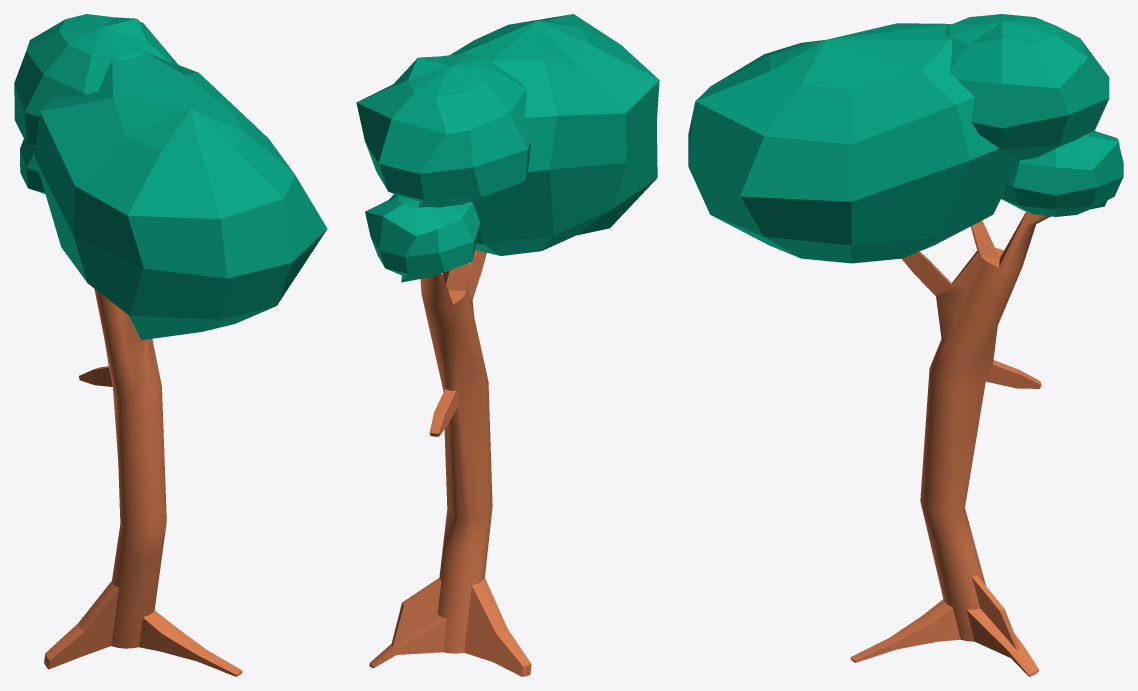
Rendered from Ieproj_tree2.fbx.
3 renders of one model, left to right at view 1: azimuth 30°, elevation 25°; view 2: azimuth 150°, elevation 25°; view 3: azimuth 270°, elevation 25°, orthographic. The views are drawn at different scales.
Parts seen in each view (by area): view 1: pSphere4, pCylinder1; view 2: pSphere4, pCylinder1; view 3: pSphere4, pCylinder1.
Boxes of the visible parts, box(x1,y1,x2,y2) form: pSphere4: box(14, 14, 327, 340); pCylinder1: box(44, 289, 242, 676); pSphere4: box(356, 14, 659, 282); pCylinder1: box(369, 250, 531, 676); pSphere4: box(688, 14, 1123, 263); pCylinder1: box(850, 211, 1050, 676).
Bounding box in the file's own units: 4.95 × 14.02 × 8.91.
